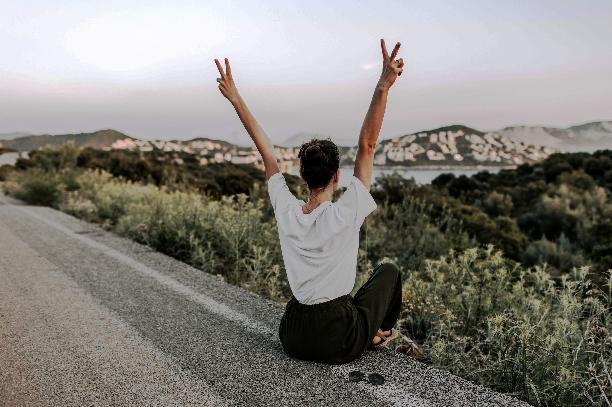Scissors: (374, 36, 409, 90), (211, 54, 239, 103)
